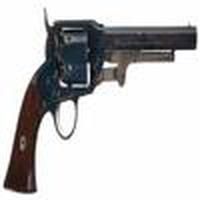gun: (2, 16, 194, 197)
